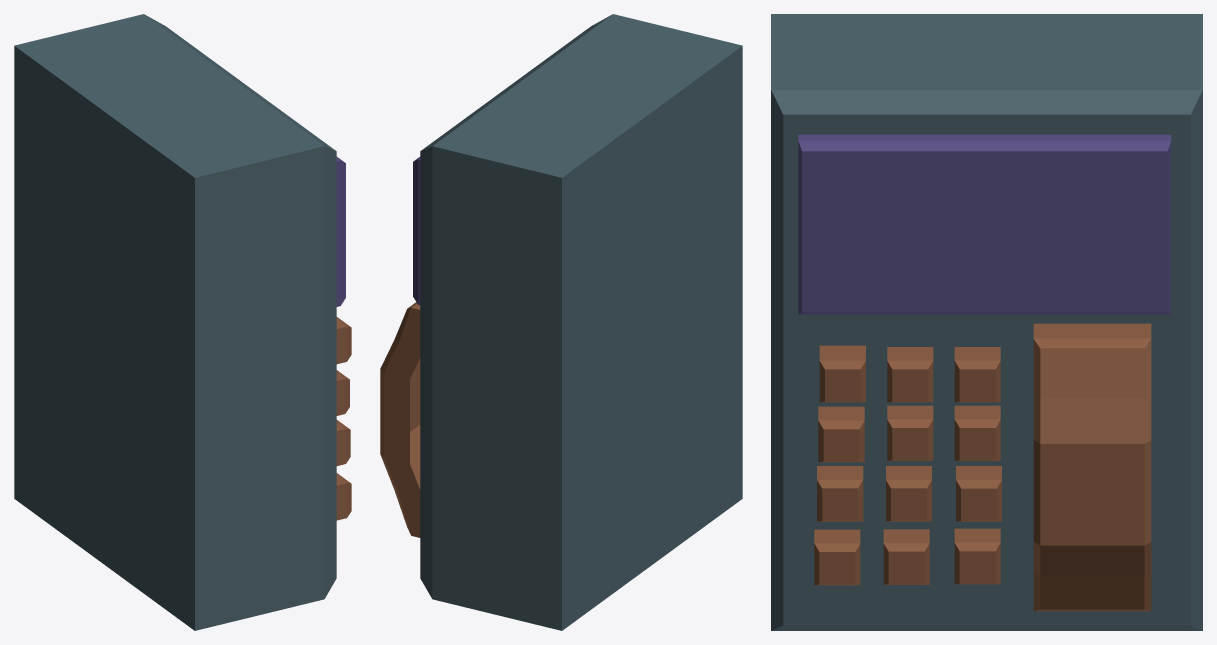
File: checkin-machine.fbx
3 renders of one model, left to right at view 1: azimuth 30°, elevation 25°; view 2: azimuth 150°, elevation 25°; view 3: azimuth 270°, elevation 25°, orthographic. The views are drawn at different scales.
Visible parts, largest first — view 1: check-in-box, check-in-screen, check-in-button.009, check-in-button, check-in-button.006, check-in-button.003; view 2: check-in-box, check-in-button.012, check-in-screen; view 3: check-in-box, check-in-screen, check-in-button.012, check-in-button, check-in-button.003, check-in-button.009, check-in-button.011, check-in-button.006, check-in-button.010, check-in-button.001, check-in-button.002, check-in-button.004 (+3 smaller).
Boxes of the visible parts, x1,y1,x2,y2 form: check-in-box: [14, 14, 336, 630]; check-in-screen: [336, 157, 345, 306]; check-in-button.009: [336, 473, 351, 520]; check-in-button: [336, 317, 351, 364]; check-in-button.006: [336, 420, 350, 465]; check-in-button.003: [336, 370, 349, 415]; check-in-box: [420, 14, 742, 630]; check-in-button.012: [380, 302, 420, 537]; check-in-screen: [413, 157, 420, 304]; check-in-box: [771, 14, 1202, 630]; check-in-screen: [798, 134, 1171, 314]; check-in-button.012: [1033, 323, 1151, 611]; check-in-button: [819, 345, 865, 402]; check-in-button.003: [818, 406, 864, 462]; check-in-button.009: [814, 529, 860, 585]; check-in-button.011: [954, 528, 1000, 584]; check-in-button.006: [817, 466, 863, 521]; check-in-button.010: [883, 529, 929, 584]; check-in-button.001: [887, 347, 933, 402]; check-in-button.002: [954, 347, 1000, 402]; check-in-button.004: [887, 405, 933, 460].
Bounding box in the file's own units: 83.26 × 175 × 126.
